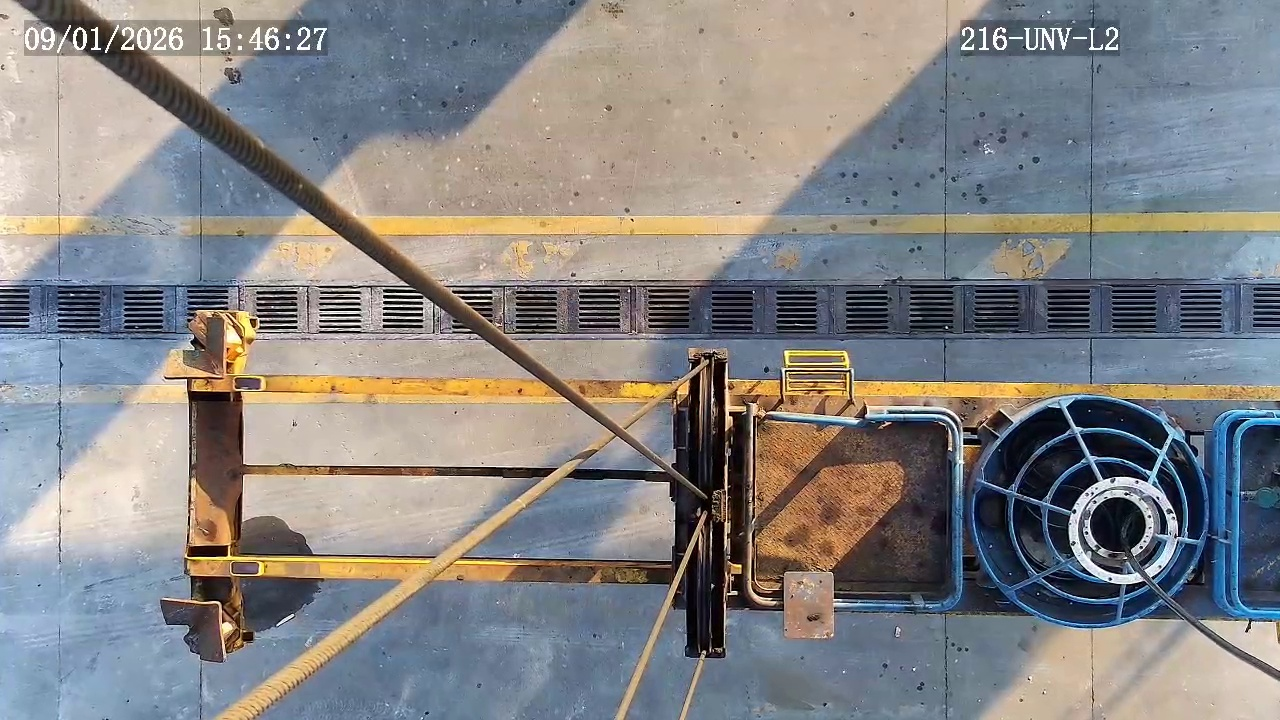left: (970, 396, 1209, 628)
